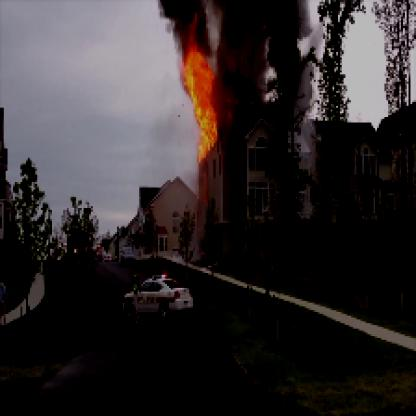Fire: (184, 13, 234, 169)
Smoke: (213, 2, 301, 113)
